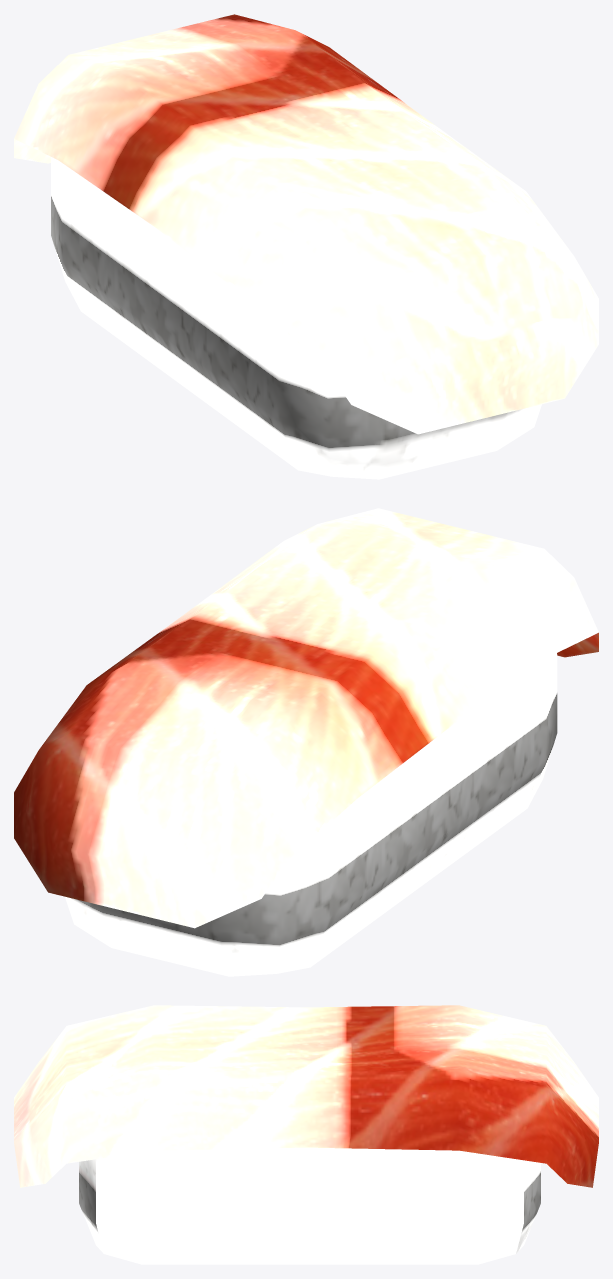
Rendered from SM_Salmon_02.fbx.
The picture shows the model from 3 angles, top to bottom: view 1: azimuth 30°, elevation 25°; view 2: azimuth 150°, elevation 25°; view 3: azimuth 270°, elevation 25°; orthographic projection. The views are drawn at different scales.
Visible parts, largest first — view 1: SM_Salmon_02_LOD0; view 2: SM_Salmon_02_LOD0; view 3: SM_Salmon_02_LOD0.
Part boxes in pixels (bbox=[...]): SM_Salmon_02_LOD0: bbox=[14, 14, 598, 479]; SM_Salmon_02_LOD0: bbox=[14, 508, 598, 976]; SM_Salmon_02_LOD0: bbox=[14, 1005, 598, 1264].
Bounding box in the file's own units: 3.48 × 7.6 × 2.89.
